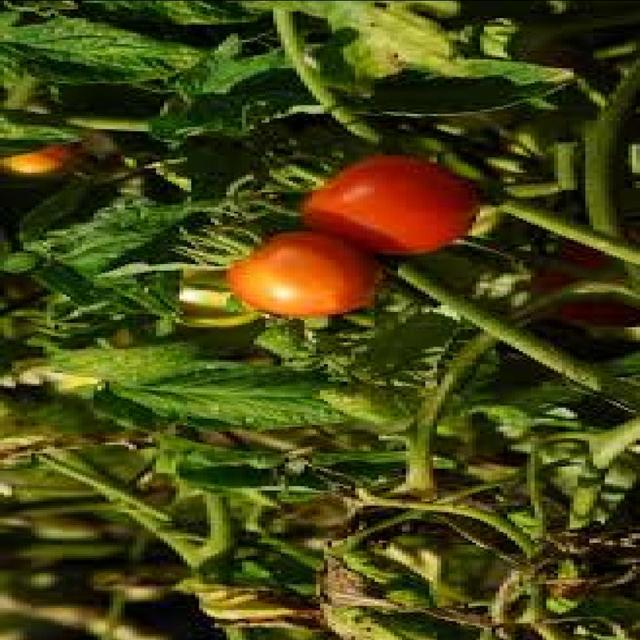Spotted wilt Virus Fruit: (114, 60, 257, 184)
